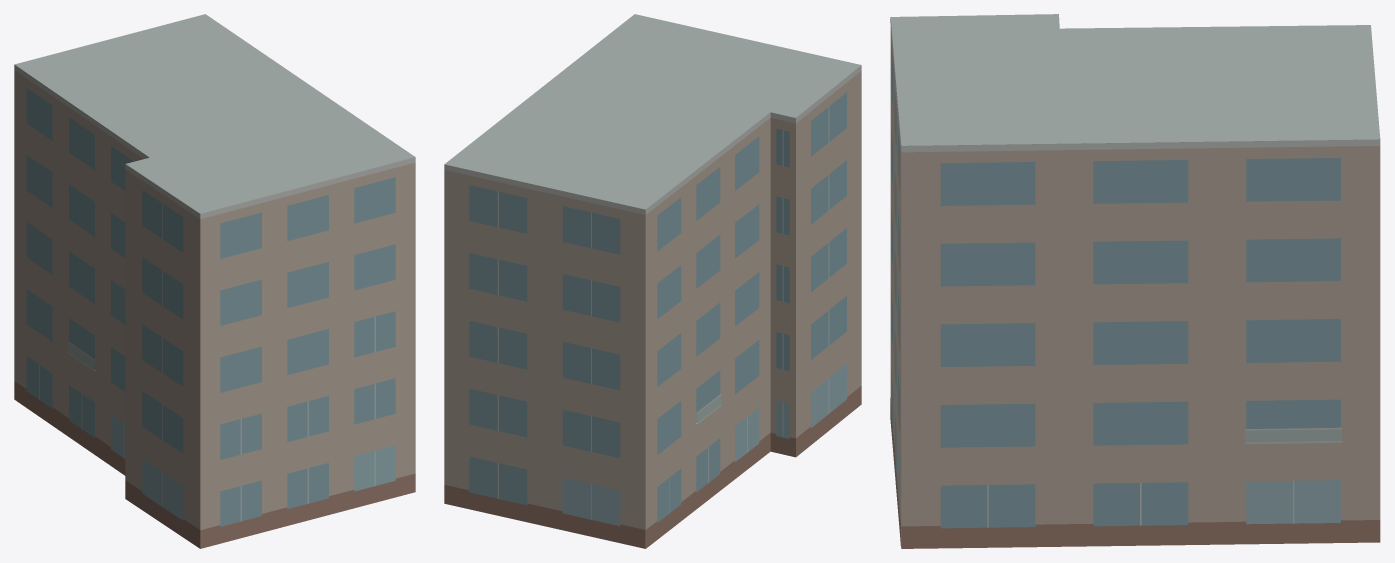
The model's file is survey-upis-32556053.glb.
The picture shows the model from 3 angles, left to right: view 1: azimuth 30°, elevation 25°; view 2: azimuth 150°, elevation 25°; view 3: azimuth 270°, elevation 25°; orthographic projection. The views are drawn at different scales.
Visible parts, largest first — view 1: survey-upis-32556053.tmp; view 2: survey-upis-32556053.tmp; view 3: survey-upis-32556053.tmp.
Boxes of the visible parts, x1,y1,x2,y2 form: survey-upis-32556053.tmp: (14, 14, 415, 548); survey-upis-32556053.tmp: (444, 14, 861, 548); survey-upis-32556053.tmp: (890, 14, 1380, 548).
Size of the model in its own units: 10.71 by 15.25 by 16.81.
